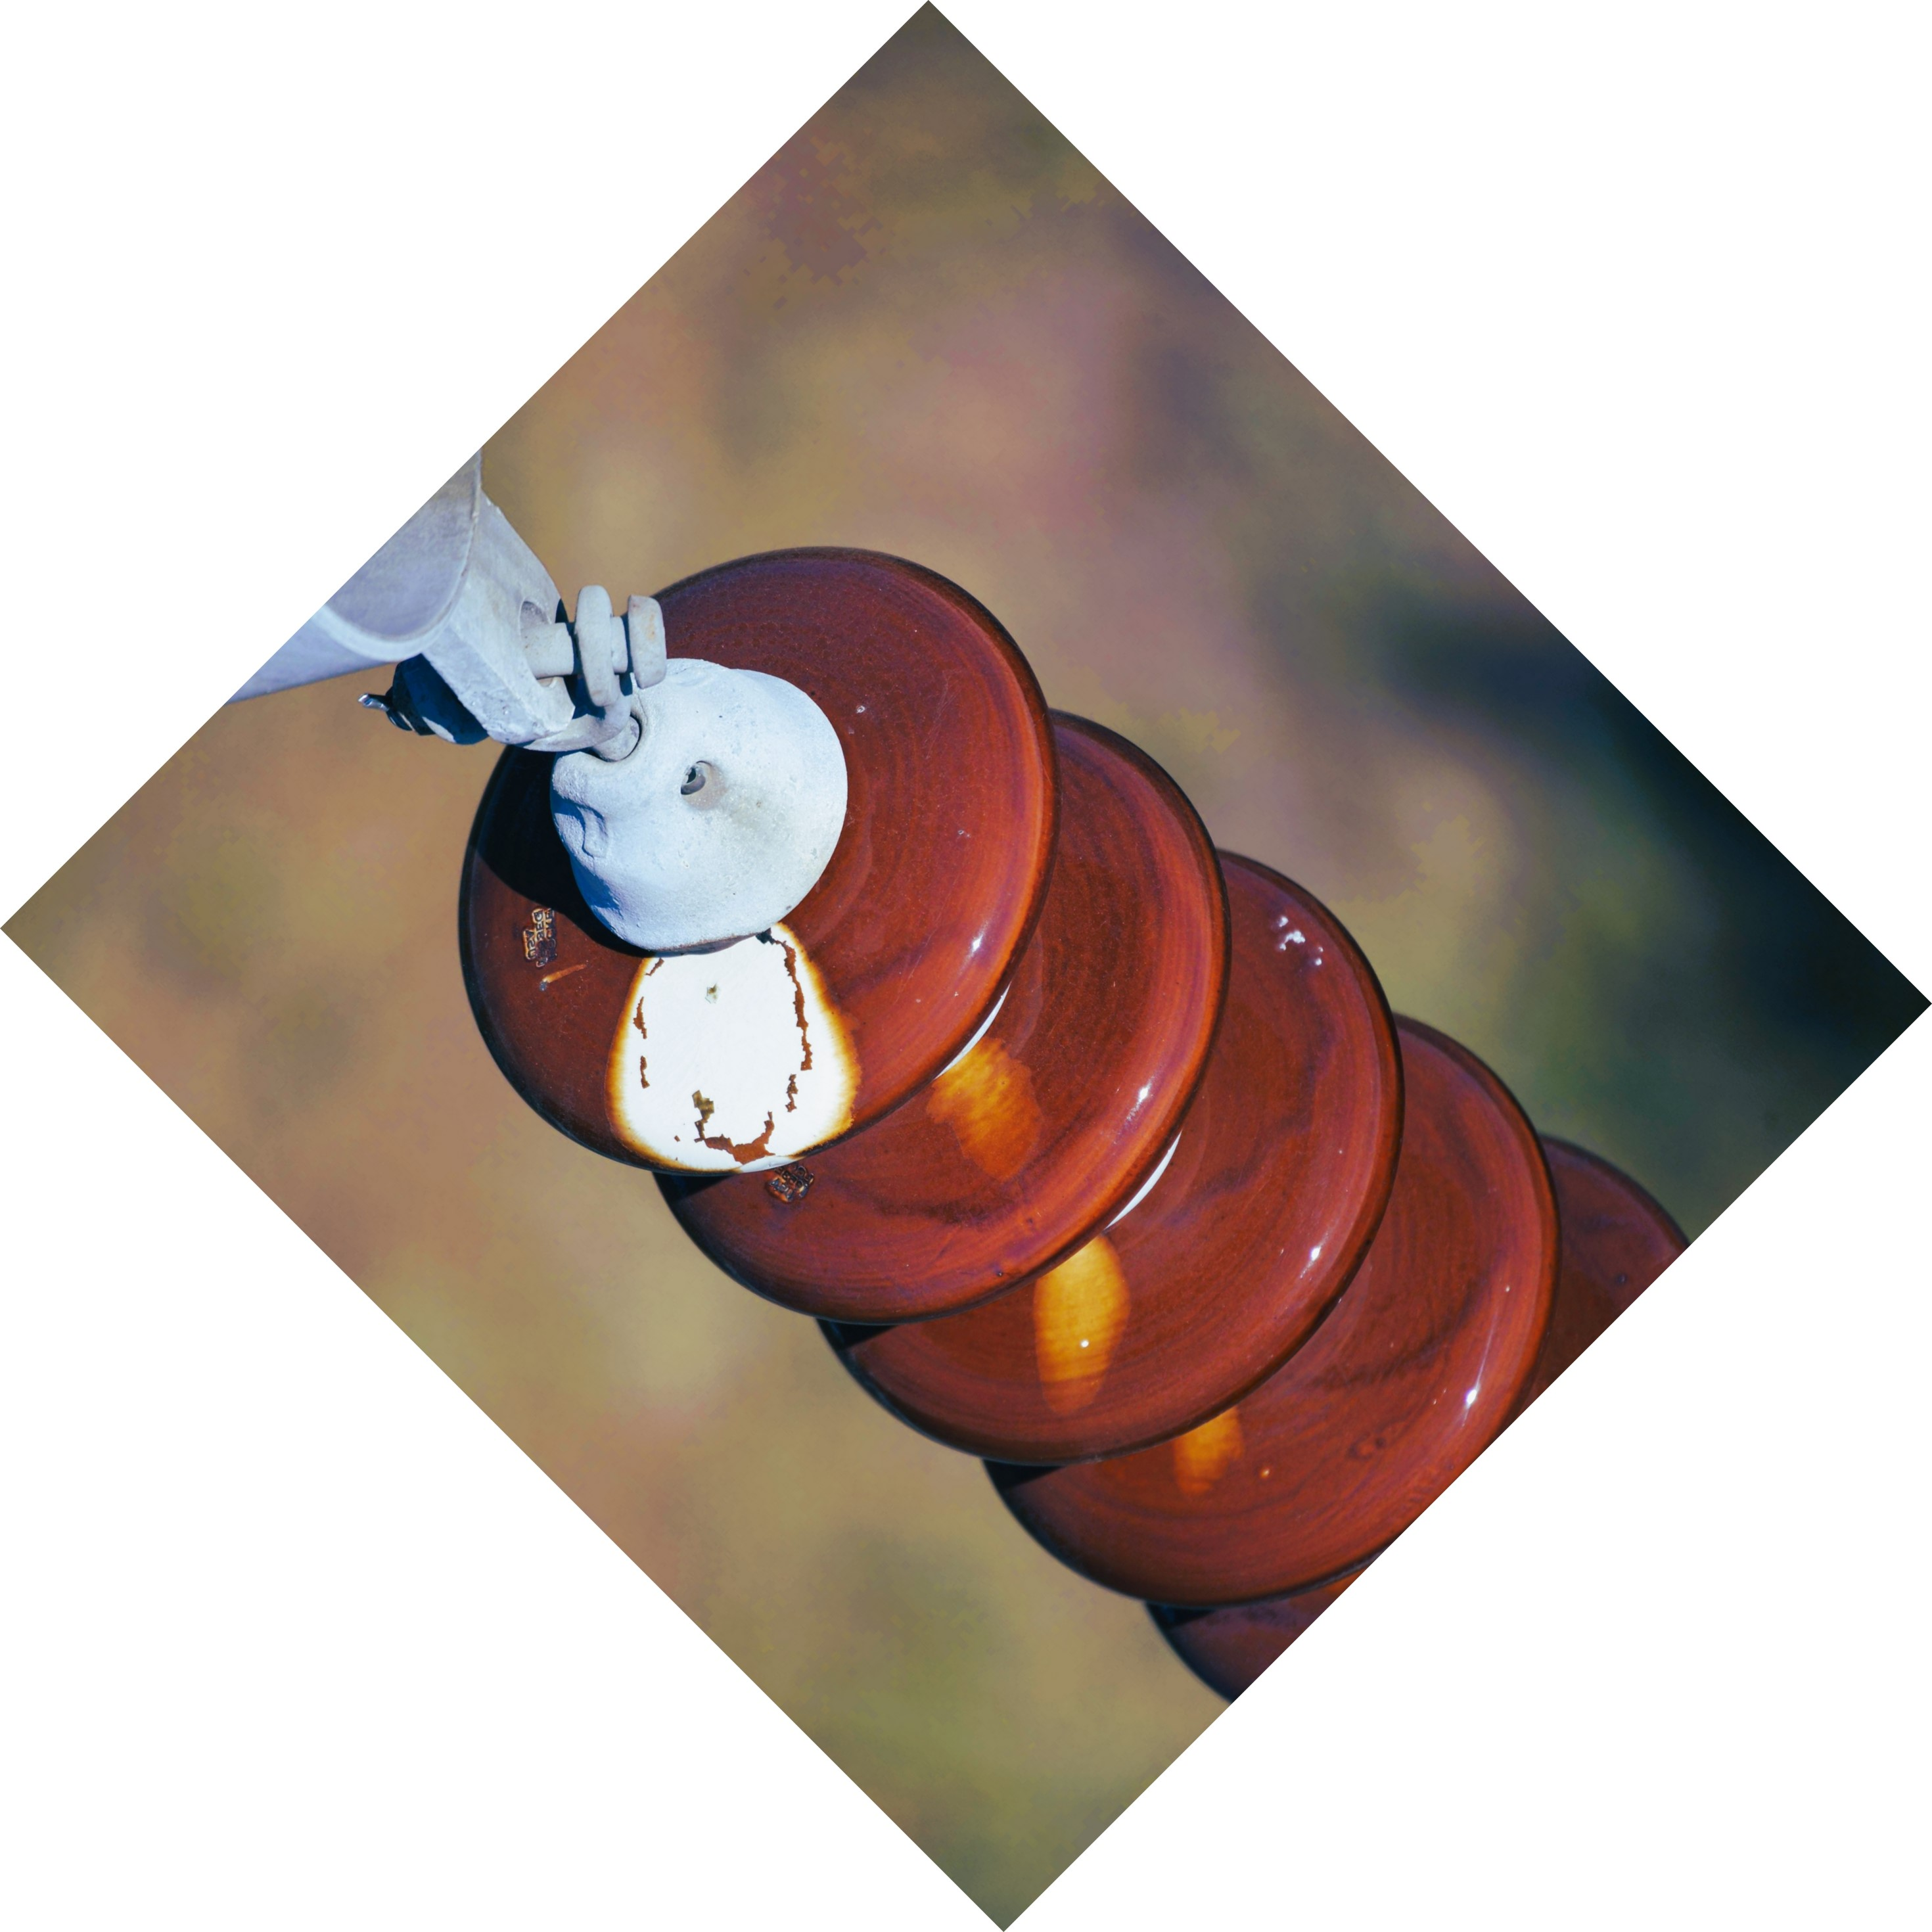Insulator flashover: (432, 525, 1081, 1189)
